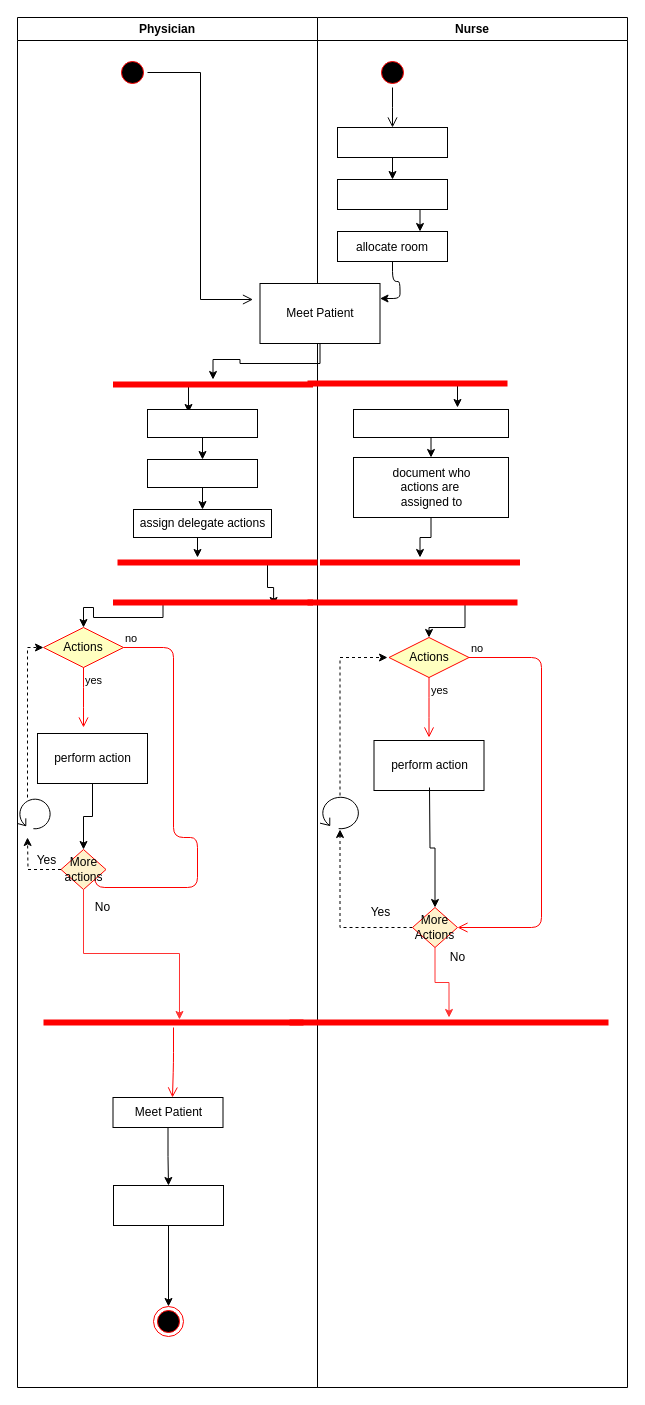
The diagram is 645 pixels wide and 1405 high, and some of its shapes have lost their labels. The centre of each missing label's shape, as x and y in pixels:
"access patient" goes at point (202, 423).
"Assess Patient" goes at point (392, 142).
"document action plan" goes at point (430, 423).
"Inform patient of overall health" goes at point (168, 1205).
"plan actions" goes at point (202, 473).
"Register Patient" goes at point (392, 194).
